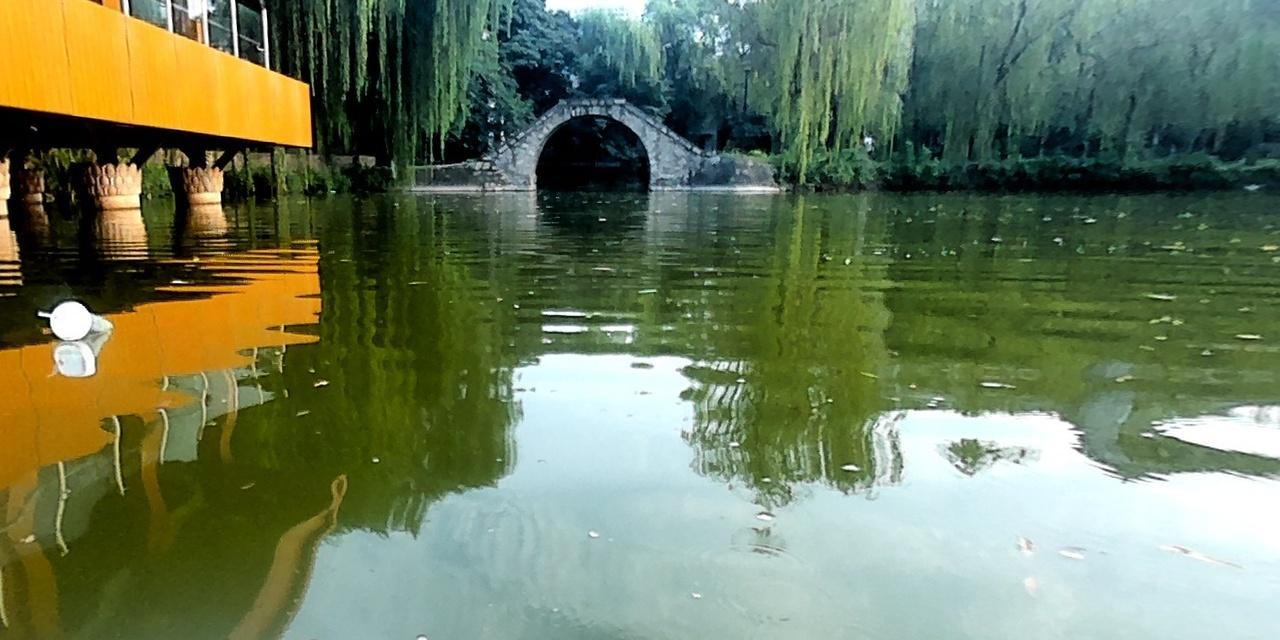bottle: (44, 293, 116, 344)
